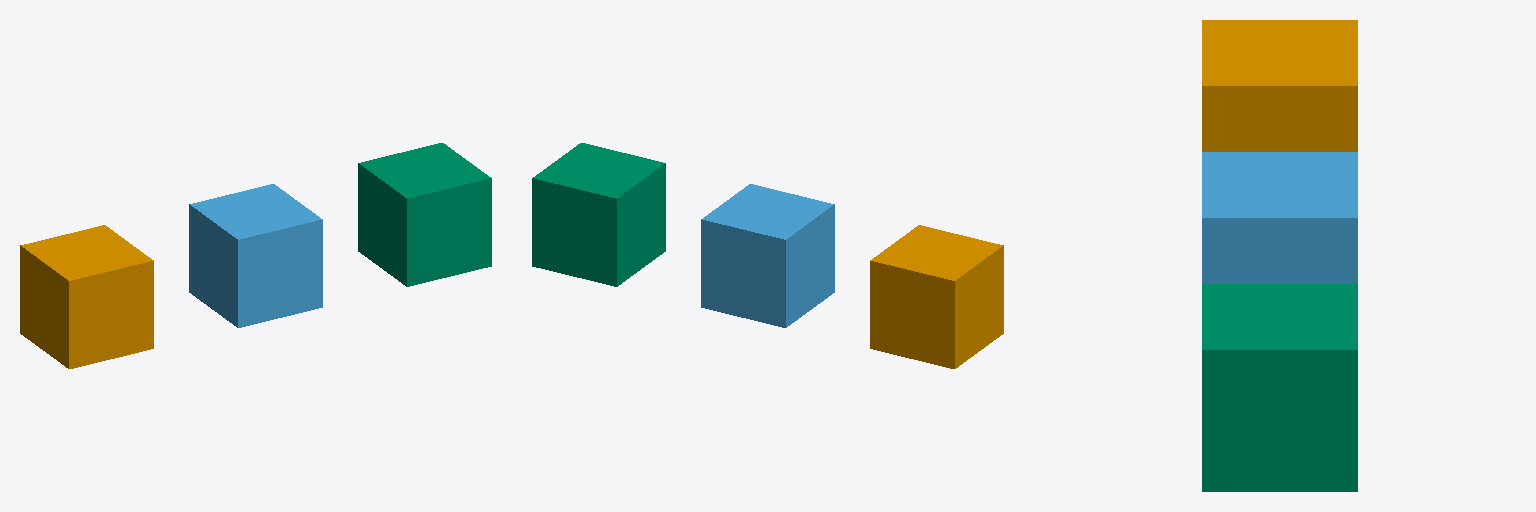
robot.urdf — change_joint_order:
<?xml version="1.0"?>
<robot name="change_joint_order">
  <link name="link_box">
    <visual>
      <geometry>
        <box size="0.5 0.5 0.5"/>
      </geometry>
    </visual>
  </link>
  <link name="link_box2">
    <visual>
      <geometry>
        <box size="0.5 0.5 0.5"/>
      </geometry>
    </visual>
  </link>
  <link name="link_box3">
    <visual>
      <geometry>
        <box size="0.5 0.5 0.5"/>
      </geometry>
    </visual>
  </link>

  <joint name="joint_box" type="fixed">
    <origin rpy="0 0 0" xyz="1 0 0"/>
    <parent link="link_box2"/>
    <child link="link_box3"/>
  </joint>

  <!-- Change the joint order to verify root joint detection. -->
  <joint name="joint_root" type="fixed">
    <origin rpy="0 0 0" xyz="1 0 0"/>
    <parent link="link_box"/>
    <child link="link_box2"/>
  </joint>
</robot>

--- What the picture shows (computed from the rendered views, not written in the file) ---
The picture shows the robot from 3 angles, left to right: view 1: azimuth 30°, elevation 25°; view 2: azimuth 150°, elevation 25°; view 3: azimuth 270°, elevation 25°; orthographic projection.
Robot: change_joint_order — 3 links, 2 joints (2 fixed); root link link_box; default pose: all joints at 0.
Visible links, largest first — view 1: link_box, link_box3, link_box2; view 2: link_box, link_box3, link_box2; view 3: link_box3, link_box, link_box2.
Boxes of the visible links, x1,y1,x2,y2 form: link_box: (20, 225, 153, 368); link_box3: (358, 143, 491, 286); link_box2: (189, 184, 322, 327); link_box: (870, 225, 1003, 368); link_box3: (532, 143, 665, 286); link_box2: (701, 184, 834, 327); link_box3: (1202, 284, 1357, 491); link_box: (1202, 20, 1357, 151); link_box2: (1202, 152, 1357, 283).
Bounding box of the posed robot: 2.5 × 0.5 × 0.5 m (x, y, z).
Geometry: primitives only (box / cylinder / sphere), no mesh files.